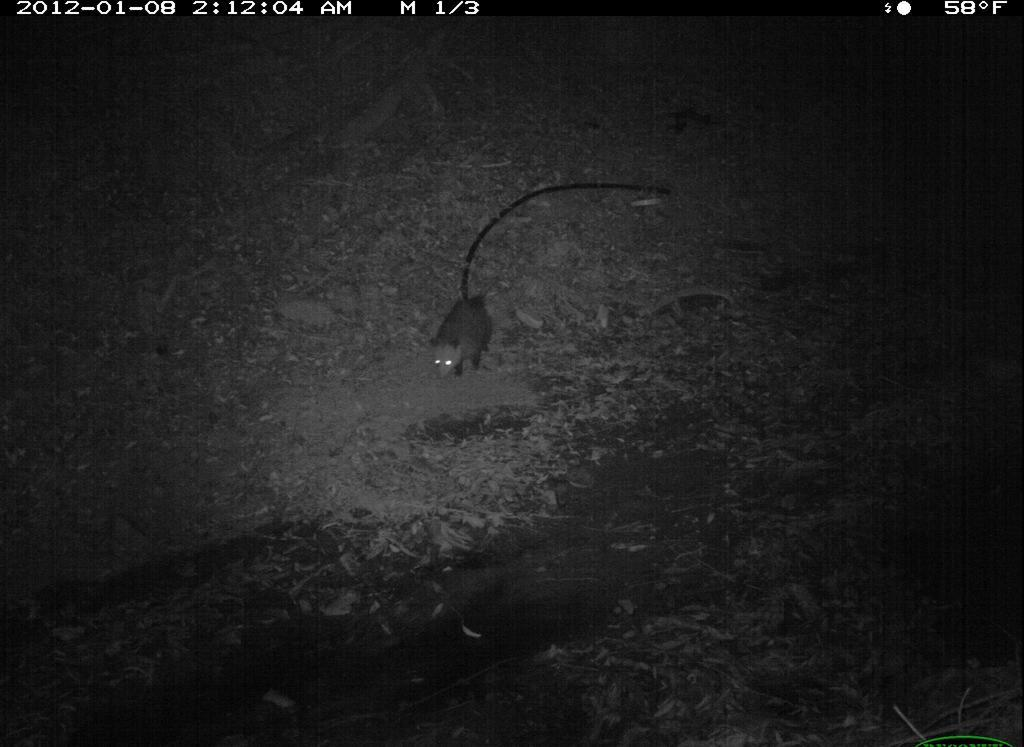opossum: (429, 281, 506, 390)
